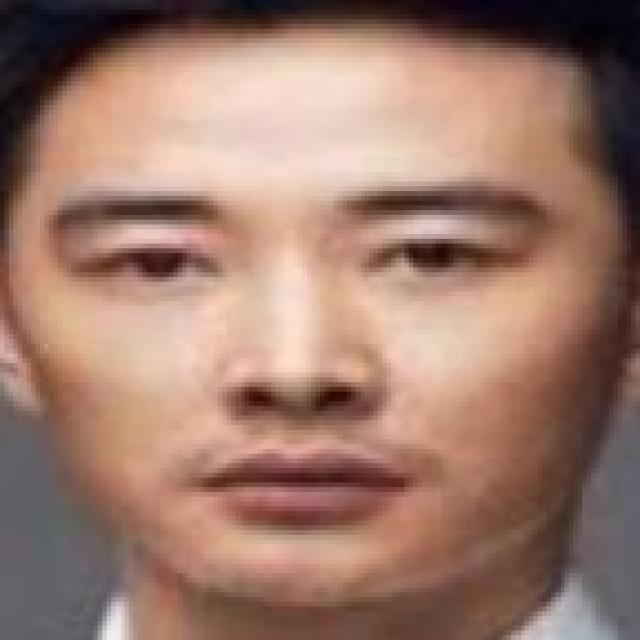no_mask: (12, 55, 640, 640)
